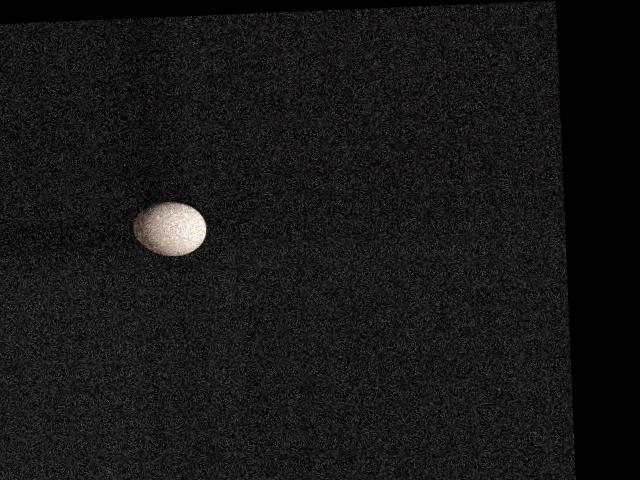egg: (132, 200, 208, 257)
